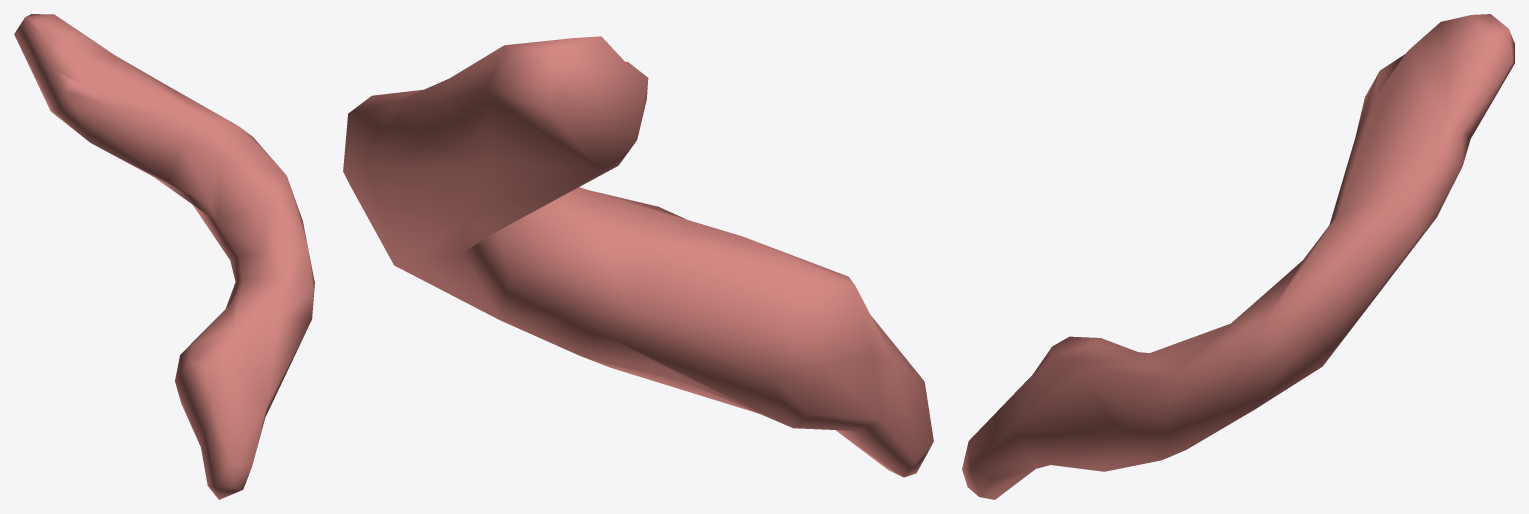
3 views of the same model, side by side, from view 1: azimuth 30°, elevation 25°; view 2: azimuth 150°, elevation 25°; view 3: azimuth 270°, elevation 25° (orthographic). The views are drawn at different scales.
Visible parts, largest first — view 1: ZA_e944b797fb1ac190; view 2: ZA_e944b797fb1ac190; view 3: ZA_e944b797fb1ac190.
Boxes of the visible parts, x1=… form: ZA_e944b797fb1ac190: x1=14, y1=14, x2=314, y2=499; ZA_e944b797fb1ac190: x1=343, y1=36, x2=933, y2=477; ZA_e944b797fb1ac190: x1=962, y1=14, x2=1514, y2=499.
Bounding box in the file's own units: 0.012 × 0.0216 × 0.0228.
